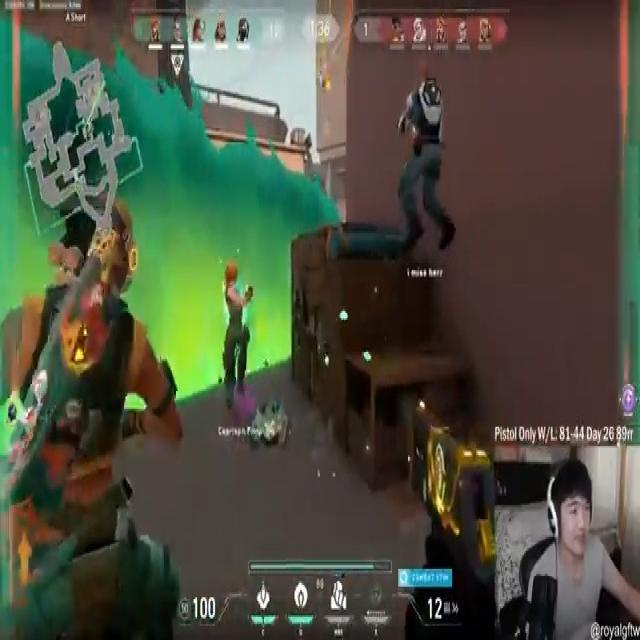ally: (0, 208, 170, 638), (396, 57, 454, 260), (220, 260, 253, 413)
